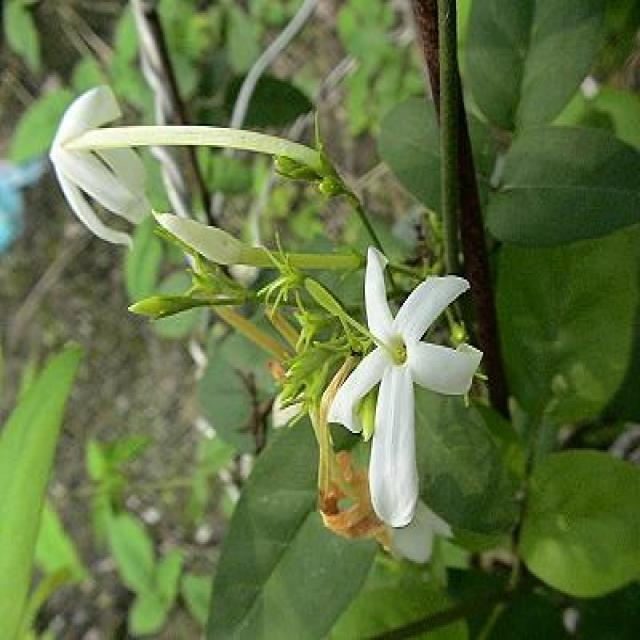organic waste: (287, 242, 486, 532), (46, 79, 364, 237)
